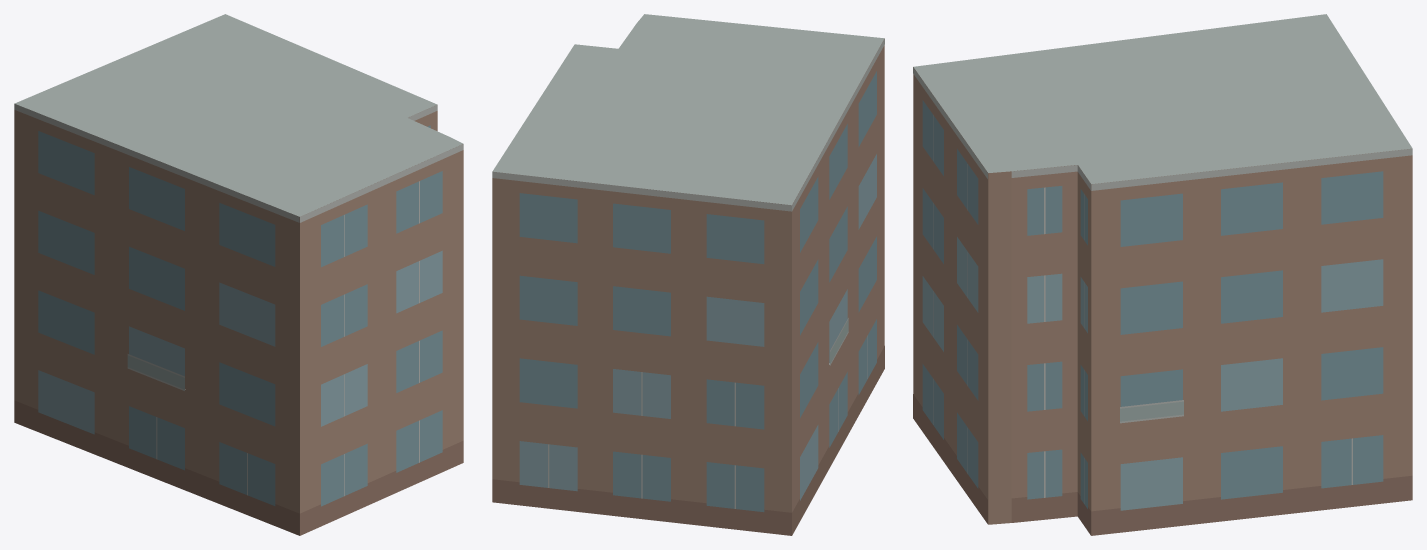
File: survey-upis-32613827.glb
The picture shows the model from 3 angles, left to right: view 1: azimuth 30°, elevation 25°; view 2: azimuth 150°, elevation 25°; view 3: azimuth 270°, elevation 25°; orthographic projection. The views are drawn at different scales.
Parts seen in each view (by area): view 1: survey-upis-32613827.tmp; view 2: survey-upis-32613827.tmp; view 3: survey-upis-32613827.tmp.
Part boxes in pixels (x1,y1,x2,y2): survey-upis-32613827.tmp: (14,14,463,535); survey-upis-32613827.tmp: (492,14,884,535); survey-upis-32613827.tmp: (913,14,1412,535).
Bounding box in the file's own units: 13.19 × 12.7 × 16.36.
